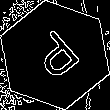P_SE: (23, 24, 87, 86)
